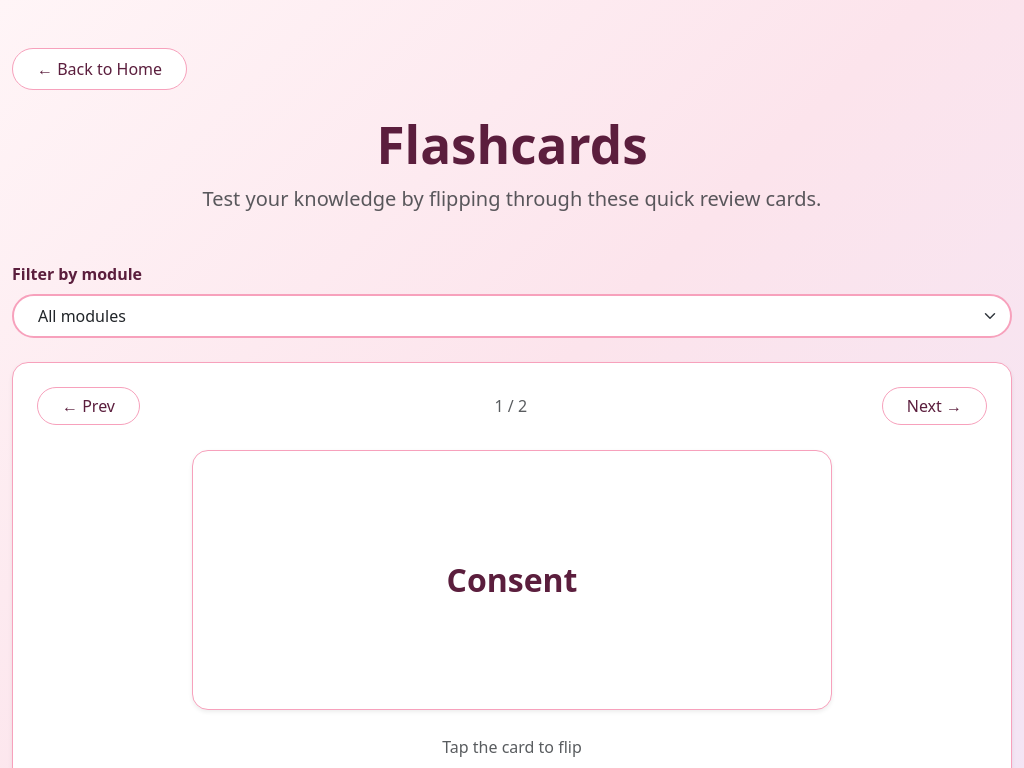
Scenario: Flashcards page — card display › flipping again returns to front face
Expected: the text "Consent" is shown, [446, 558, 578, 600]
Click the button "Consent": coordinates (94, 580) [37, 448, 987, 710]
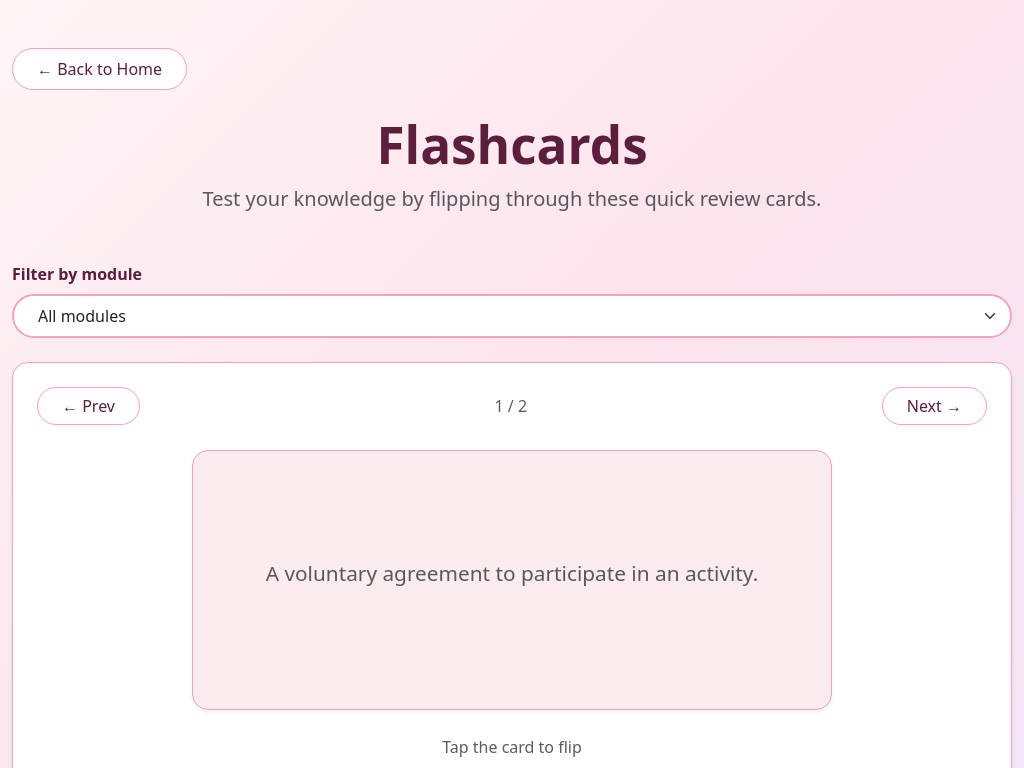
Result: the text "A voluntary agreement to participate in an activity." is shown at [266, 559, 758, 587]
Click the button "A voluntary agreement to participate in an activity.": coordinates (94, 580) [37, 448, 987, 710]
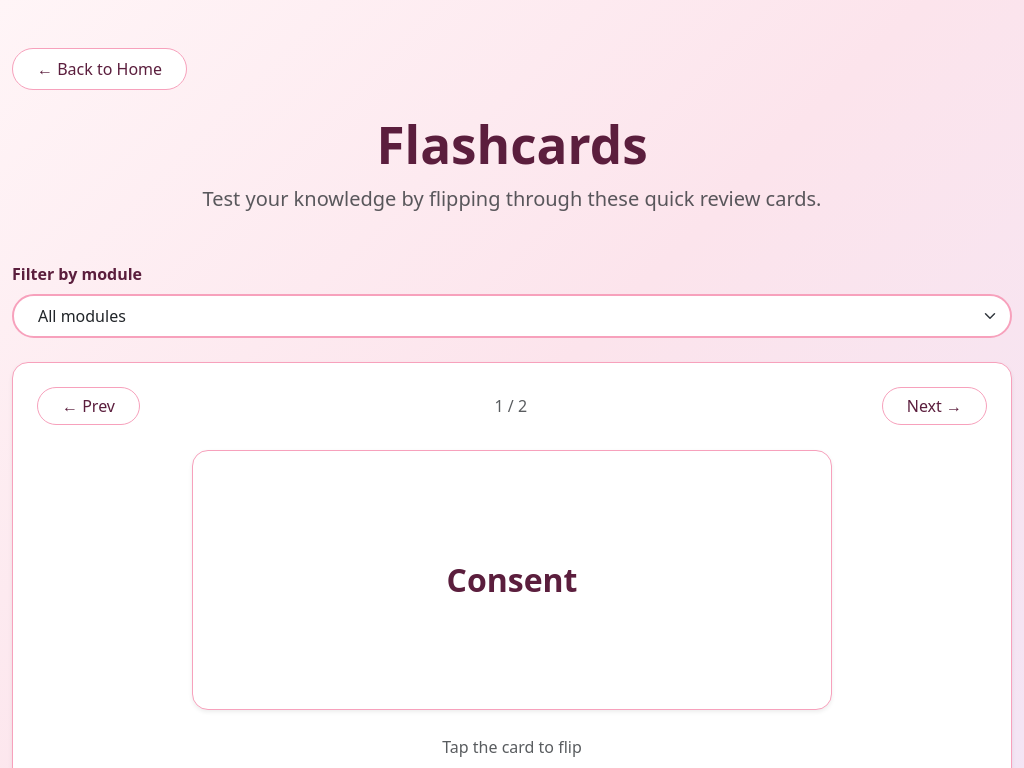
Result: the text "Consent" is shown at [446, 558, 578, 600]
